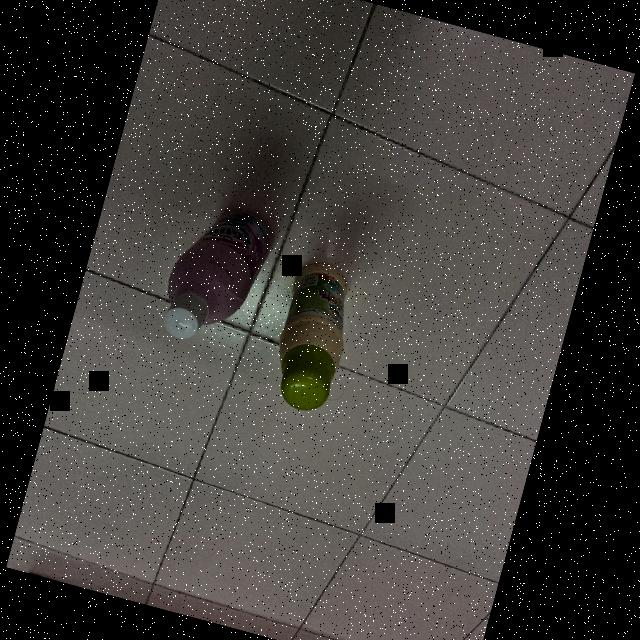chemical_plastic_bottle: (146, 187, 284, 355), (260, 255, 366, 421)
